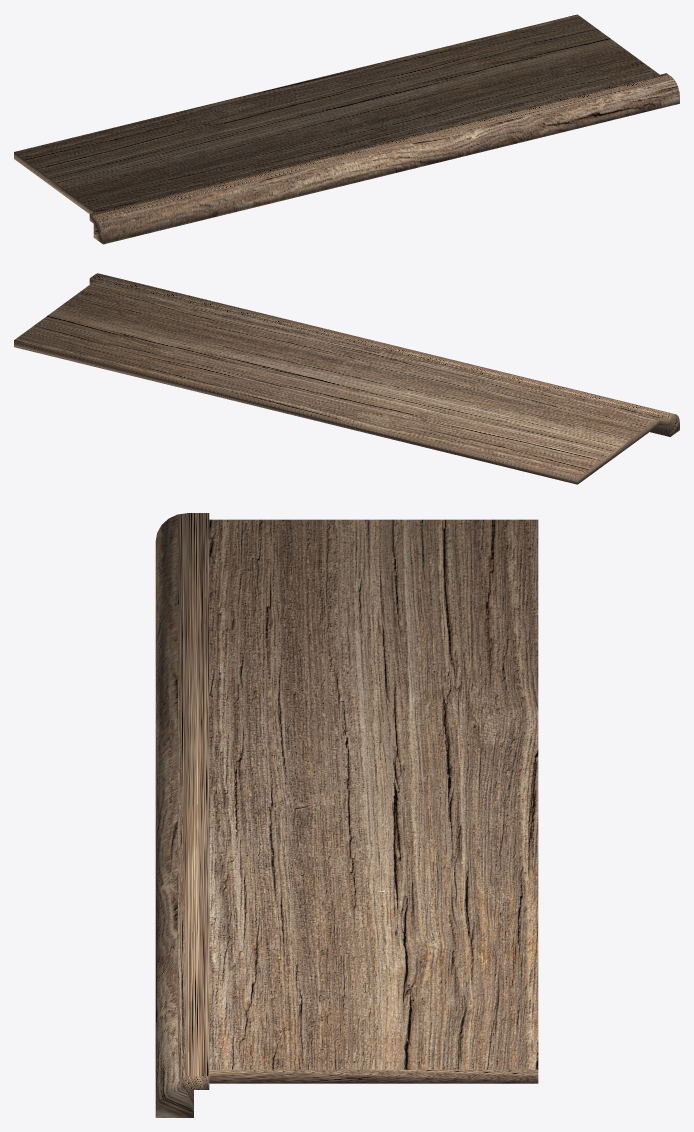
The model's file is windowsill.dae.
3 views of the same model, one above another, from view 1: azimuth 30°, elevation 25°; view 2: azimuth 150°, elevation 25°; view 3: azimuth 270°, elevation 25° (orthographic). The views are drawn at different scales.
Visible parts, largest first — view 1: windowsill; view 2: windowsill; view 3: windowsill.
Part boxes in pixels (x1,y1,x2,y2): windowsill: [14, 14, 679, 244]; windowsill: [14, 273, 679, 484]; windowsill: [155, 513, 538, 1117].
Size of the model in its own units: 8.7 by 2.5 by 0.3.
Materials: 1 (1 with a texture image).
